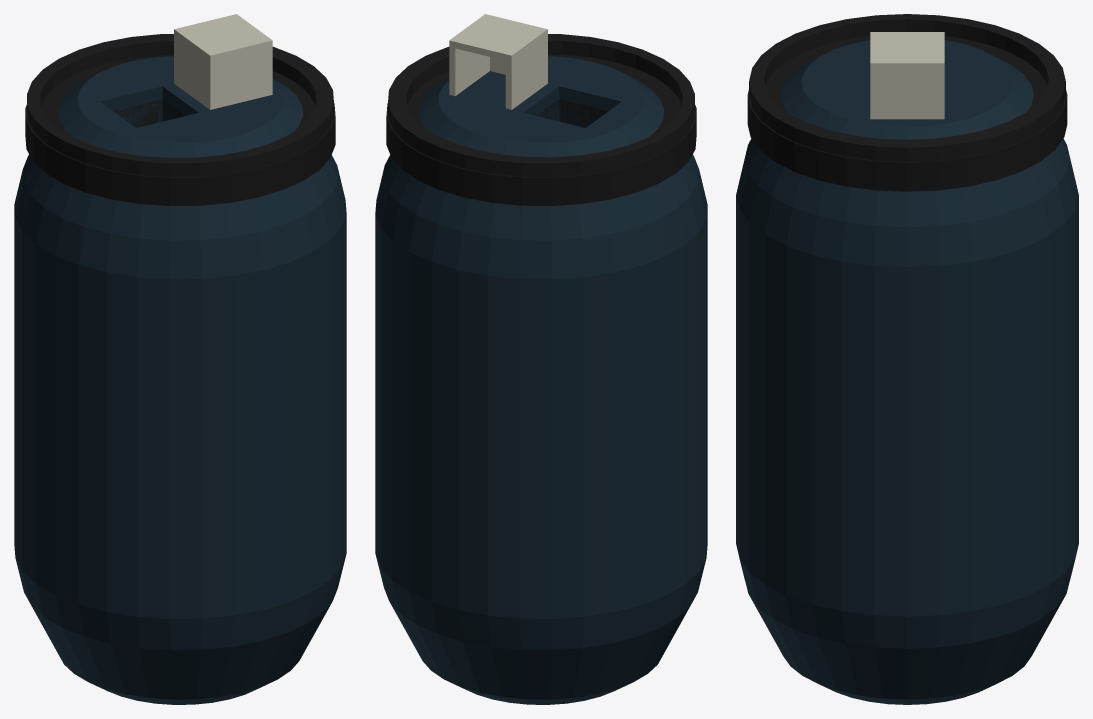
The model's file is bin.glb.
The picture shows the model from 3 angles, left to right: view 1: azimuth 30°, elevation 25°; view 2: azimuth 150°, elevation 25°; view 3: azimuth 270°, elevation 25°; orthographic projection. The views are drawn at different scales.
Visible parts, largest first — view 1: 실린더, 실린더.002, 실린더.003, 큐브; view 2: 실린더, 실린더.002, 실린더.003, 큐브; view 3: 실린더, 실린더.003, 실린더.002, 큐브.
Part boxes in pixels (x1=…): 실린더: x1=14, y1=56, x2=346, y2=704; 실린더.002: x1=25, y1=55, x2=335, y2=205; 실린더.003: x1=27, y1=34, x2=333, y2=177; 큐브: x1=174, y1=14, x2=272, y2=109; 실린더: x1=375, y1=56, x2=707, y2=704; 실린더.002: x1=386, y1=54, x2=696, y2=205; 실린더.003: x1=388, y1=34, x2=694, y2=177; 큐브: x1=449, y1=14, x2=547, y2=109; 실린더: x1=736, y1=40, x2=1078, y2=704; 실린더.003: x1=749, y1=14, x2=1065, y2=161; 실린더.002: x1=747, y1=36, x2=1067, y2=191; 큐브: x1=870, y1=32, x2=944, y2=119.
Bounding box in the file's own units: 2.16 × 4.44 × 2.16.
